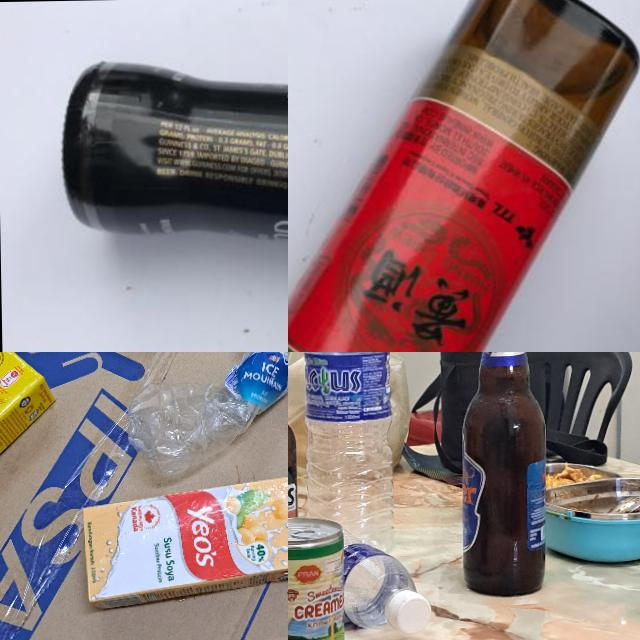aba de lata: (290, 528, 329, 538)
caixinha: (78, 472, 288, 607), (0, 352, 55, 521)
garrafa de vidro: (288, 0, 640, 352), (55, 51, 288, 263), (458, 352, 546, 597)
garrafa plástica: (126, 352, 288, 474), (300, 352, 394, 556), (341, 526, 417, 628)
lata: (288, 516, 346, 640)
papelão: (0, 352, 288, 640)
tampa plástica: (386, 590, 431, 634)
